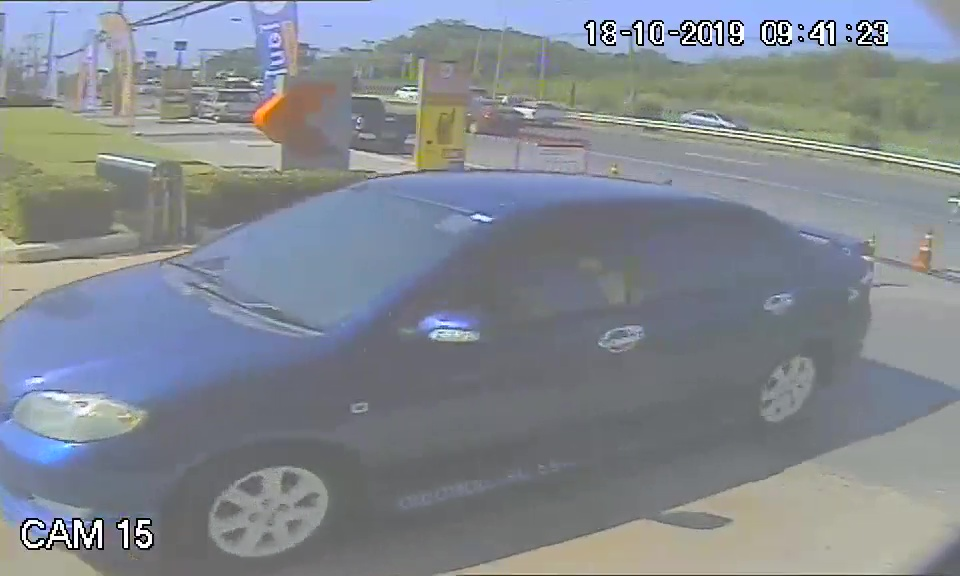sedan: (4, 167, 764, 567)
